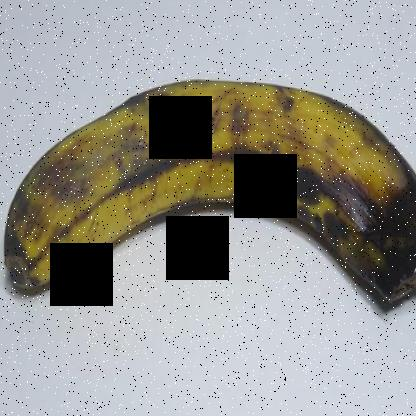overripe: (1, 59, 415, 322)
rotten: (324, 167, 415, 323)
